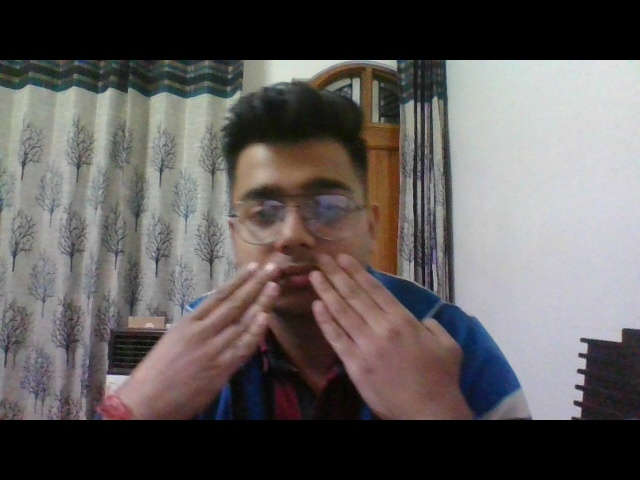Thanks: (145, 262, 488, 411)
